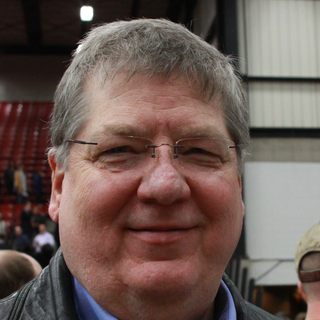eye: (178, 139, 220, 164), (99, 141, 141, 161)
